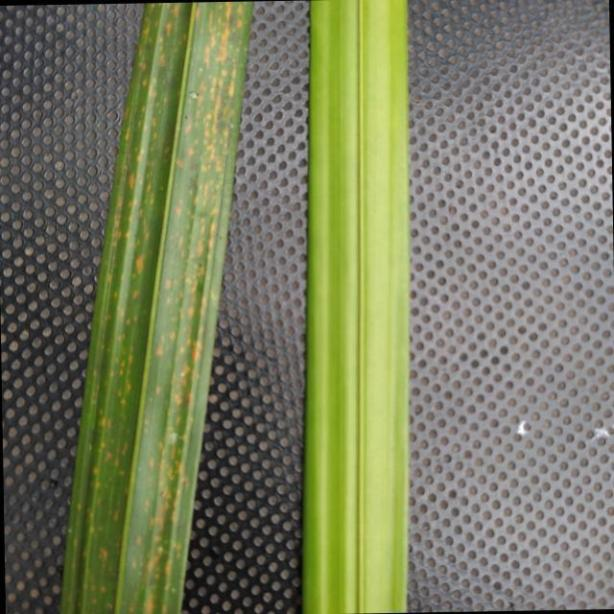nitrogen: (55, 0, 249, 614), (301, 0, 409, 614)
